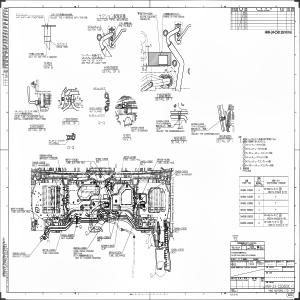PartNumber: (32, 161, 46, 164), (139, 12, 153, 15), (39, 154, 52, 157), (96, 157, 109, 160), (11, 207, 24, 210), (13, 252, 26, 255), (61, 234, 74, 237), (97, 236, 110, 239), (101, 244, 114, 247), (109, 251, 122, 254), (175, 170, 188, 173), (131, 126, 144, 129), (156, 120, 169, 123), (174, 227, 187, 230), (171, 248, 184, 251), (240, 189, 253, 192), (240, 195, 253, 198), (241, 202, 254, 205), (240, 215, 253, 218), (66, 158, 78, 161), (42, 249, 56, 251), (73, 247, 87, 249), (140, 160, 153, 162), (157, 158, 170, 160), (191, 123, 204, 125), (240, 209, 253, 211), (240, 222, 253, 224), (89, 107, 102, 109), (124, 156, 136, 158)
